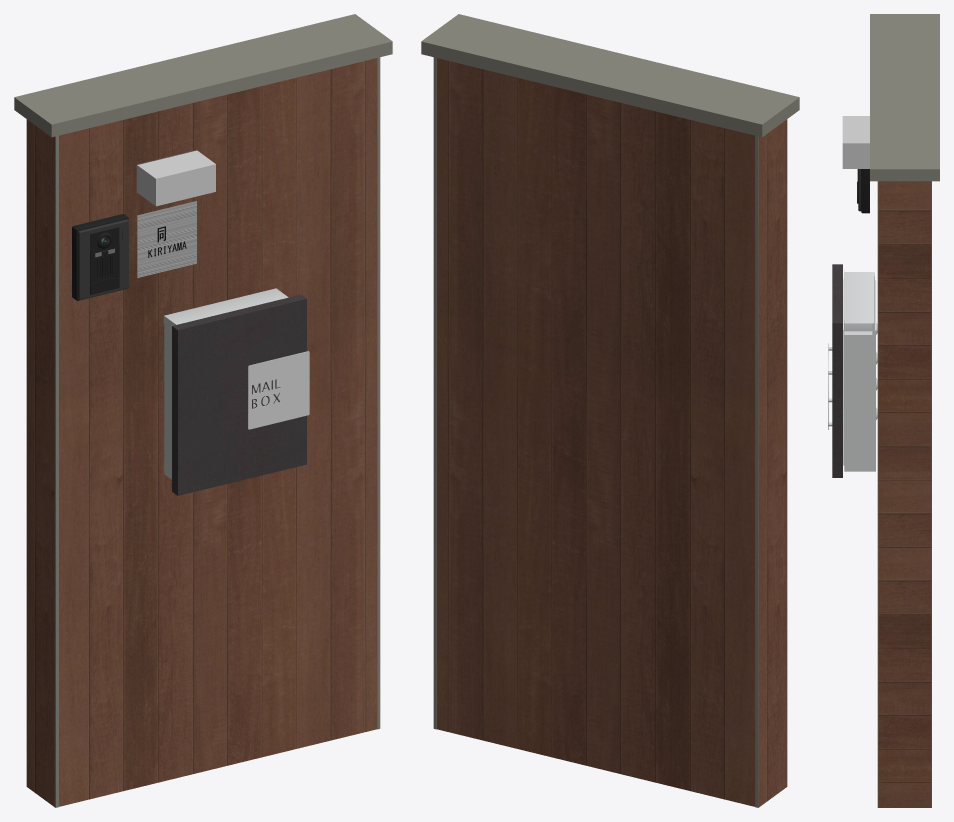
The model's file is abmonchu_w08_jaradbr.fbx.
3 views of the same model, side by side, from view 1: azimuth 30°, elevation 25°; view 2: azimuth 150°, elevation 25°; view 3: azimuth 270°, elevation 25° (orthographic). The views are drawn at different scales.
Parts seen in each view (by area): view 1: abmonchu_w08_jaradbr; view 2: abmonchu_w08_jaradbr; view 3: abmonchu_w08_jaradbr.
Part boxes in pixels (bbox=[...]): abmonchu_w08_jaradbr: bbox=[14, 14, 392, 807]; abmonchu_w08_jaradbr: bbox=[421, 14, 799, 807]; abmonchu_w08_jaradbr: bbox=[828, 14, 939, 807].
Bounding box in the file's own units: 84 × 162 × 25.57.
Materials: 14 (8 with a texture image).
